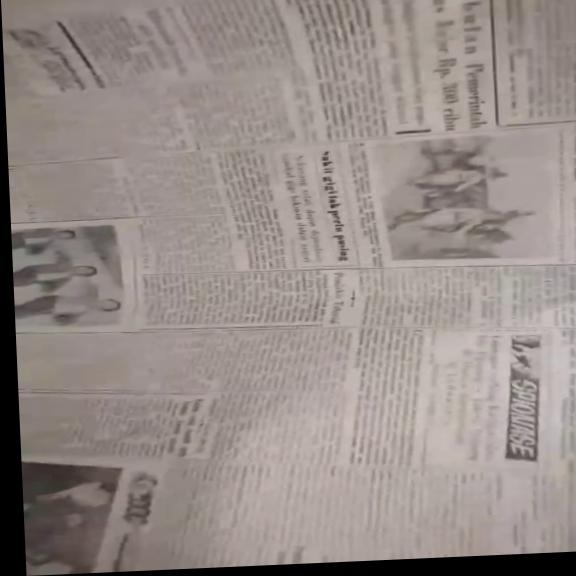Kertas: (7, 0, 576, 570)
